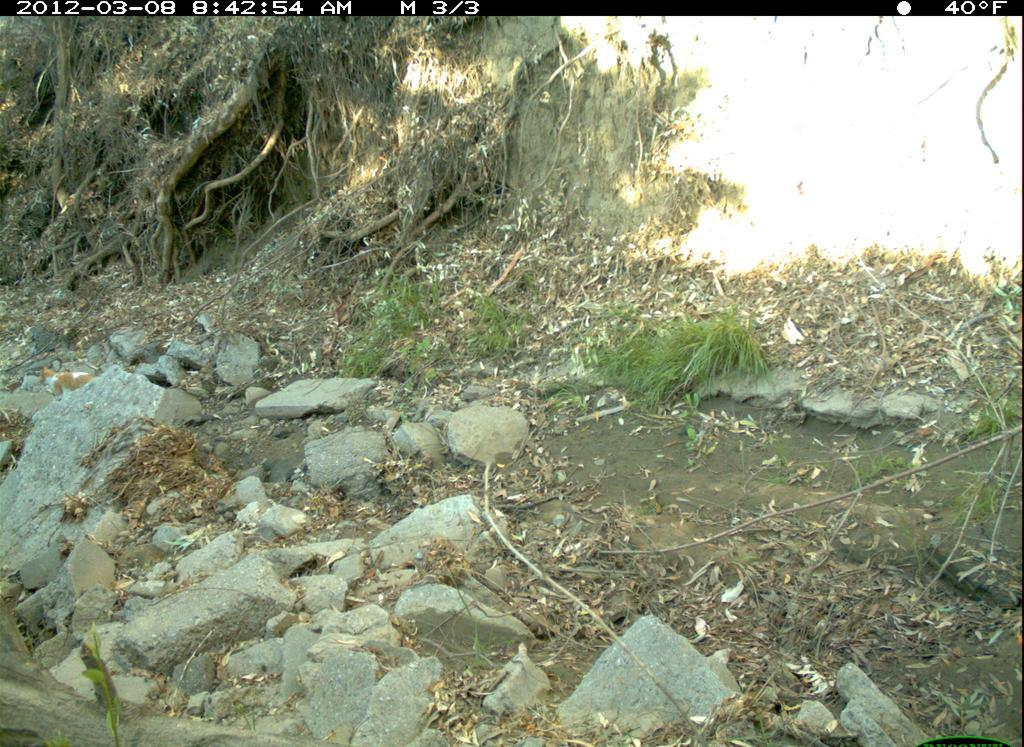cat: (38, 365, 98, 401)
